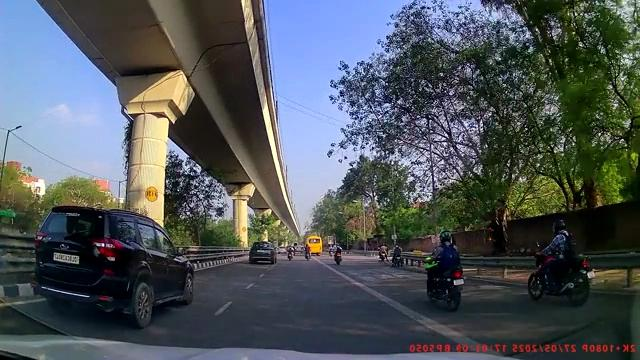motorcycle_with_helmet: (525, 218, 587, 305), (425, 229, 465, 311)
